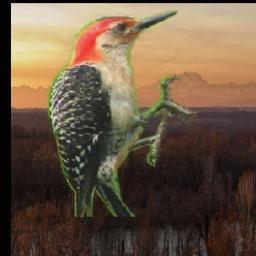Woodpecker: (48, 10, 198, 217)
